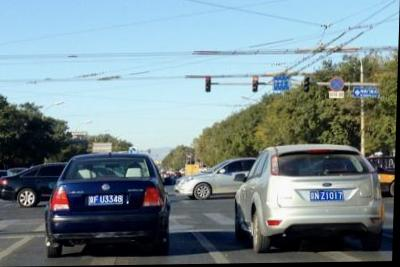License_Plate: (86, 193, 123, 205), (309, 189, 342, 199)
